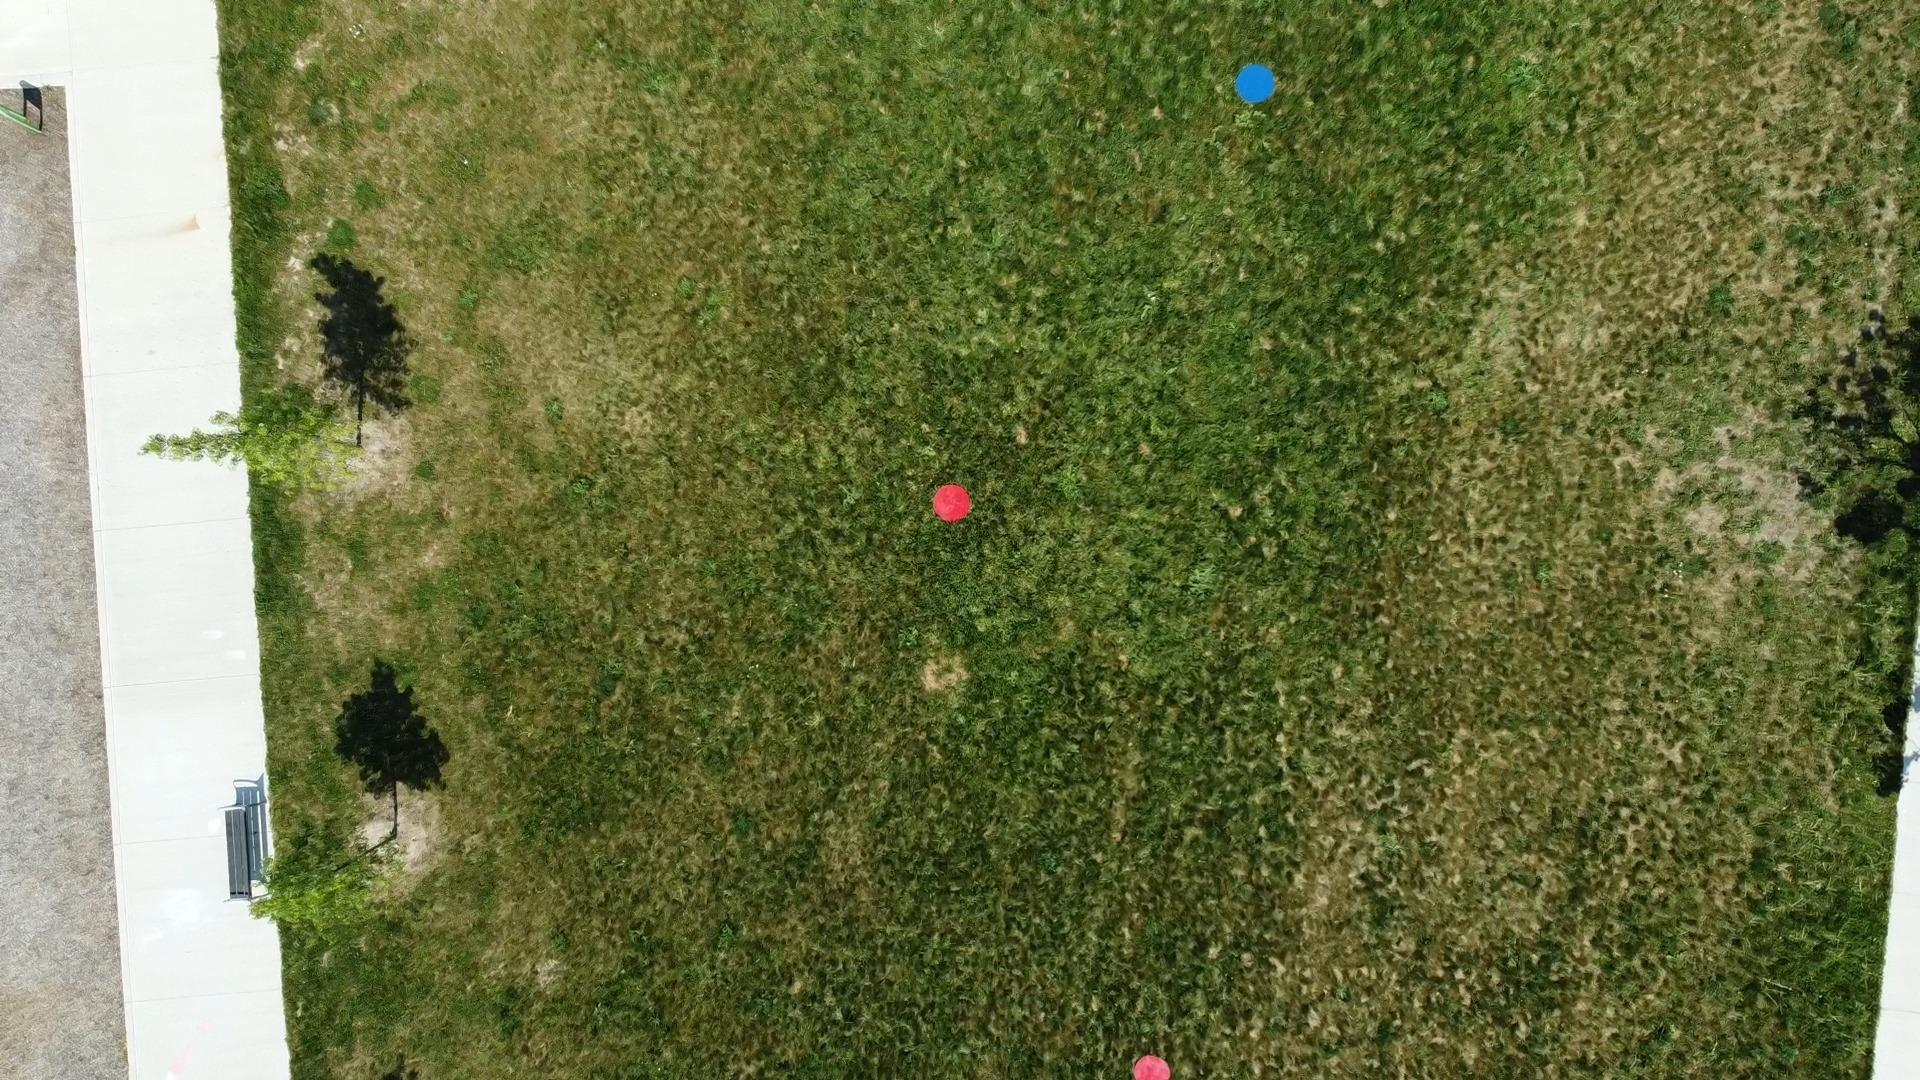Blue: (1235, 63, 1276, 106)
Red: (931, 483, 974, 522), (1131, 1052, 1173, 1080)
